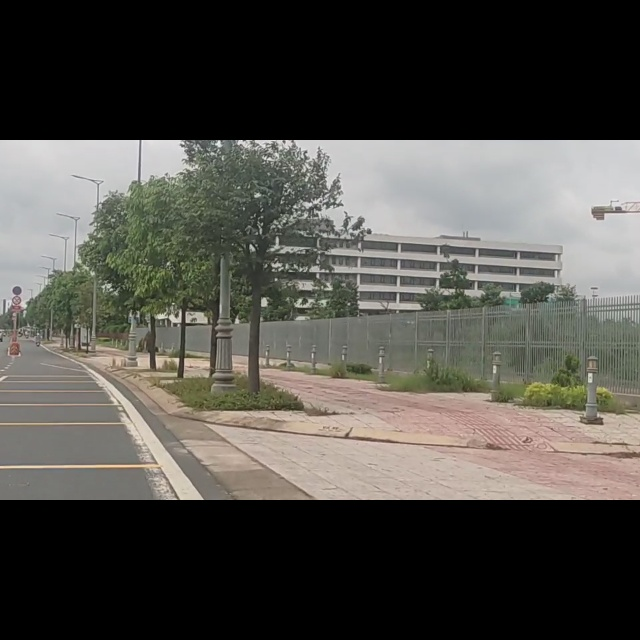bien_cam: (12, 277, 22, 294), (12, 260, 23, 275)
